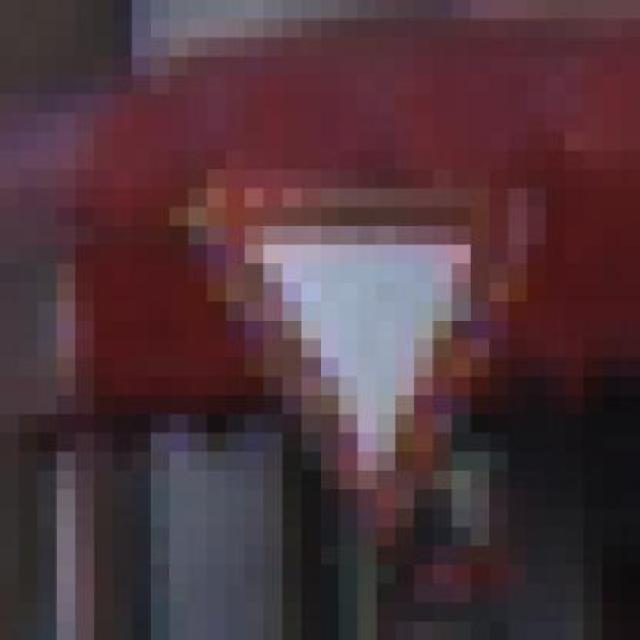Give Way: (150, 150, 584, 564)
